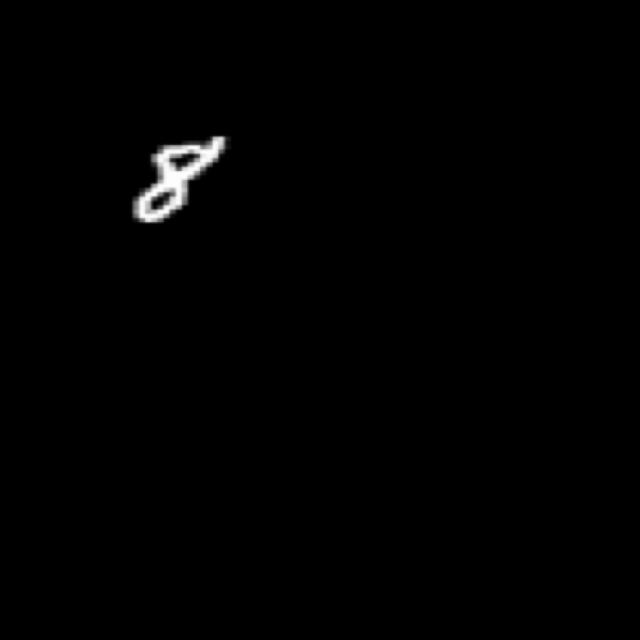eight -8-: (120, 128, 237, 227)
